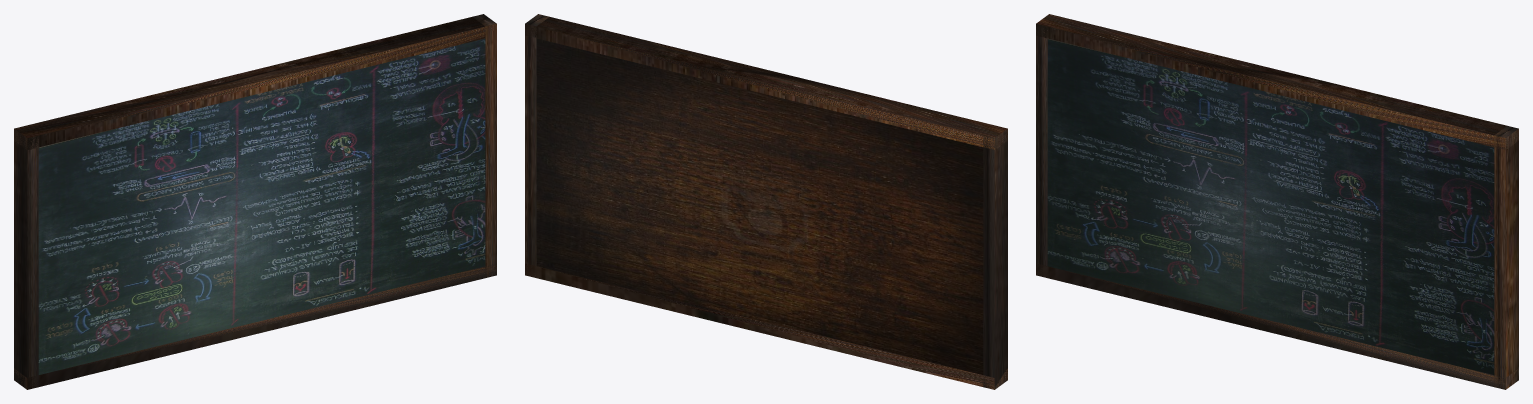
The model's file is element_interior_aula_pissarra.fbx.
3 renders of one model, left to right at view 1: azimuth 30°, elevation 25°; view 2: azimuth 150°, elevation 25°; view 3: azimuth 330°, elevation 25°, orthographic.
Visible parts, largest first — view 1: Cube, Cube_002; view 2: Cube, Cube_002; view 3: Cube, Cube_002.
Boxes of the visible parts, <box> form: Cube: <box>38,38,485,374</box>; Cube_002: <box>14,14,496,389</box>; Cube: <box>536,38,983,374</box>; Cube_002: <box>525,14,1007,389</box>; Cube: <box>1047,38,1494,374</box>; Cube_002: <box>1036,14,1518,389</box>.
Size of the model in its own units: 10.25 by 5.25 by 0.5.
4 materials, 3 textured.
